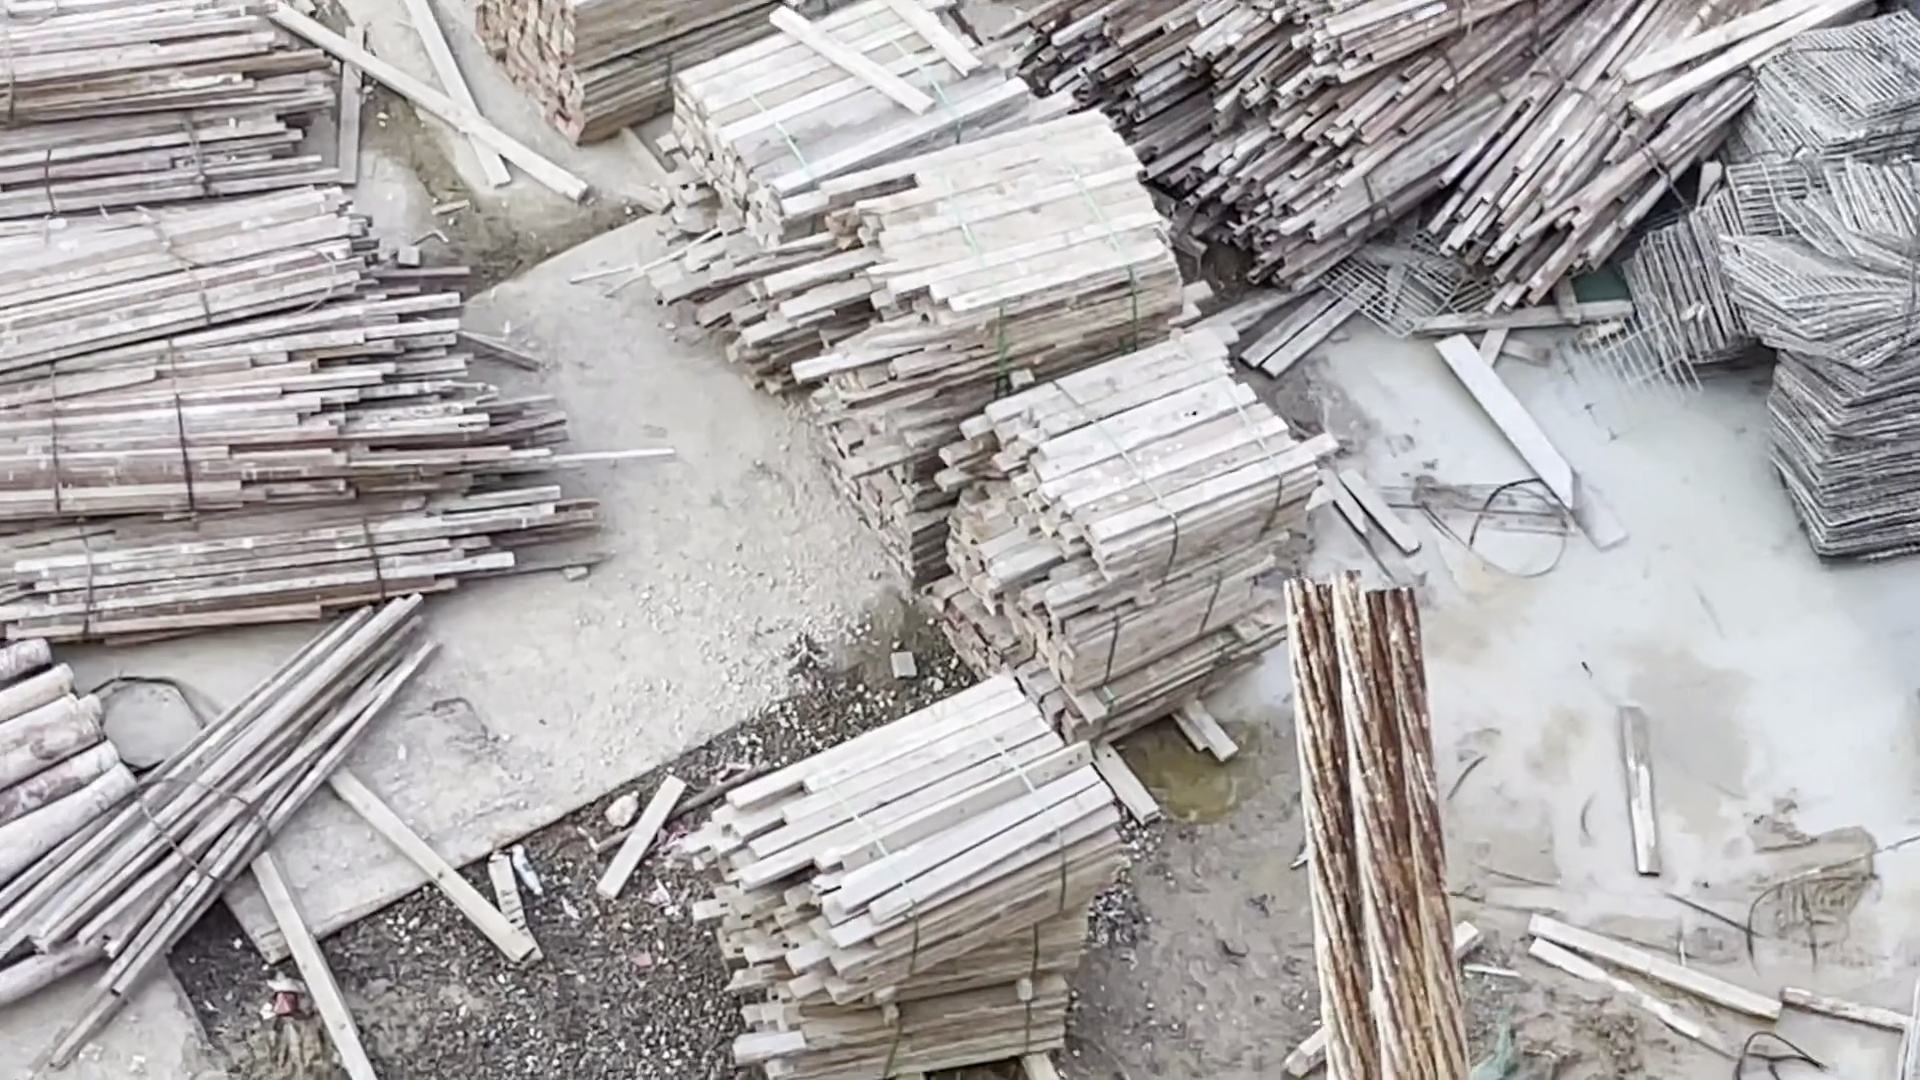wood: (1, 1, 553, 595), (647, 11, 1149, 546), (1104, 1, 1696, 343), (683, 704, 1101, 1065), (945, 343, 1313, 712), (500, 1, 752, 149), (1191, 673, 1195, 674)
